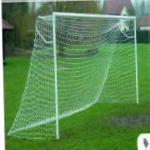goals: (7, 7, 142, 141)
